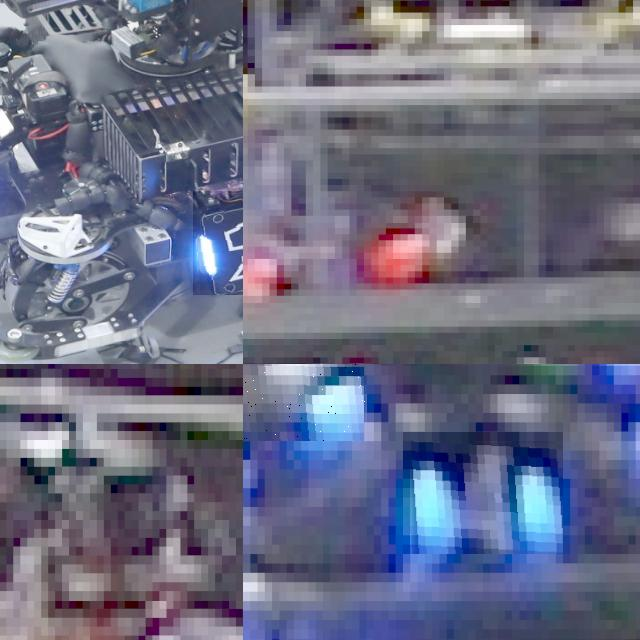B4: (403, 432, 563, 554), (243, 364, 366, 441)
Bs: (193, 191, 243, 294)
